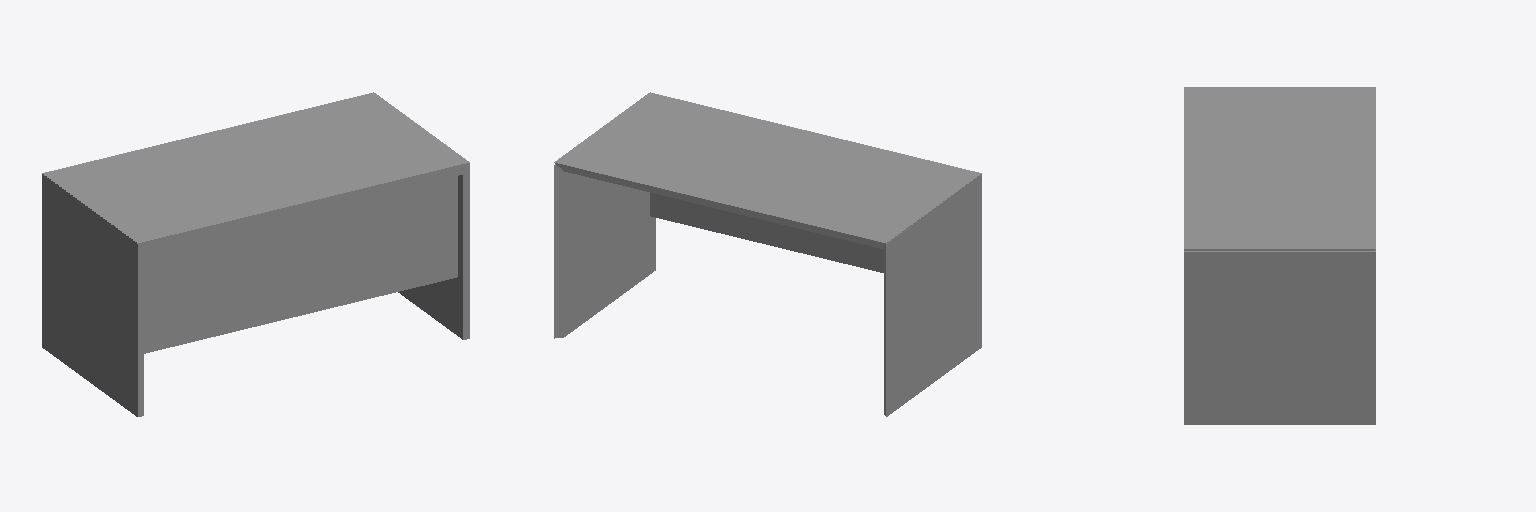
Rendered from Desk.obj.
3 renders of one model, left to right at view 1: azimuth 30°, elevation 25°; view 2: azimuth 150°, elevation 25°; view 3: azimuth 270°, elevation 25°, orthographic.
Parts seen in each view (by area): view 1: Cube_Cube.001, Cube.003_Cube.004, Cube.002_Cube.003, Cube.001_Cube.002; view 2: Cube_Cube.001, Cube.002_Cube.003, Cube.001_Cube.002, Cube.003_Cube.004; view 3: Cube.001_Cube.002, Cube_Cube.001.
Boxes of the visible parts, x1,y1,x2,y2 form: Cube_Cube.001: [42, 92, 469, 251]; Cube.003_Cube.004: [144, 176, 457, 353]; Cube.002_Cube.003: [42, 174, 143, 416]; Cube.001_Cube.002: [398, 165, 469, 339]; Cube_Cube.001: [554, 92, 981, 248]; Cube.002_Cube.003: [884, 174, 981, 416]; Cube.001_Cube.002: [554, 164, 655, 338]; Cube.003_Cube.004: [650, 193, 883, 272]; Cube.001_Cube.002: [1184, 251, 1375, 424]; Cube_Cube.001: [1184, 87, 1375, 250].
Size of the model in its own units: 1 by 0.5074 by 0.5.